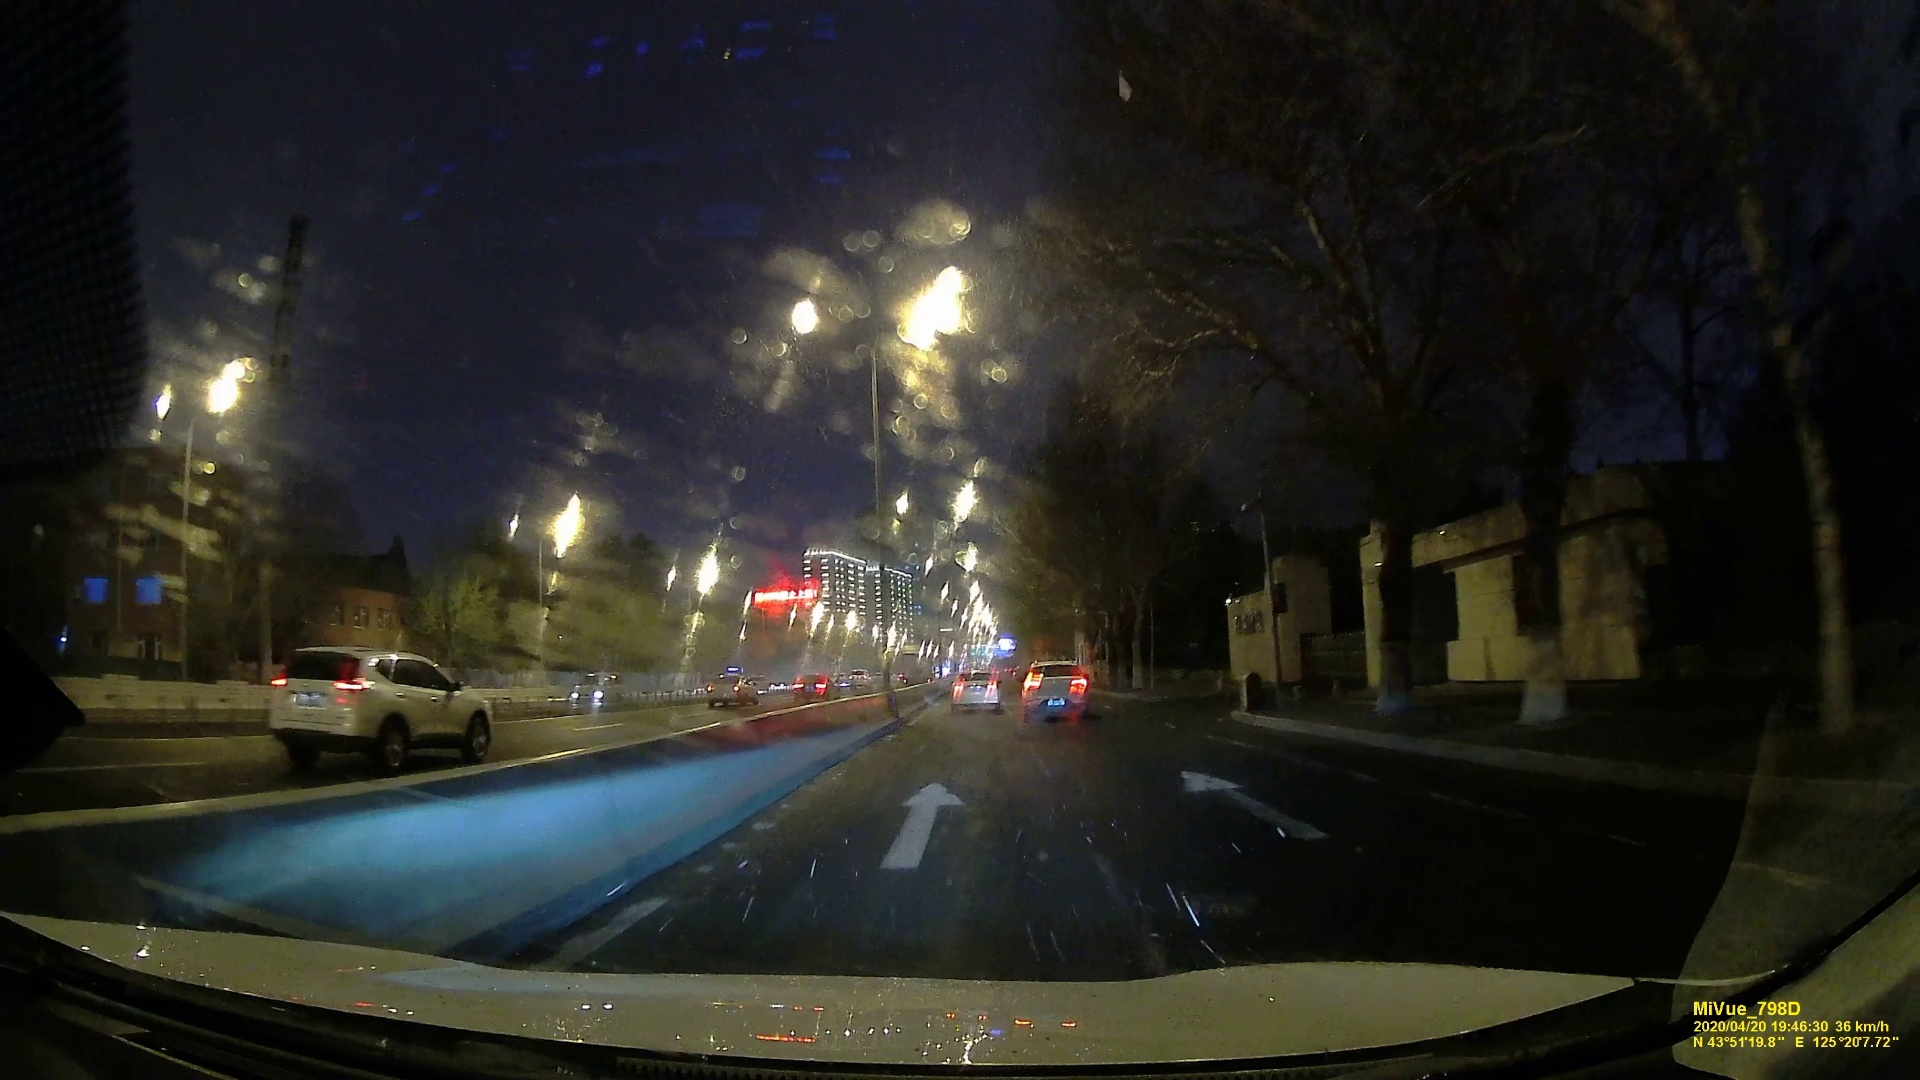truck: (898, 651, 934, 687)
vehicle: (262, 642, 495, 770), (1025, 659, 1091, 715), (949, 671, 1002, 716), (704, 671, 760, 705), (794, 673, 843, 703), (568, 674, 624, 698)
